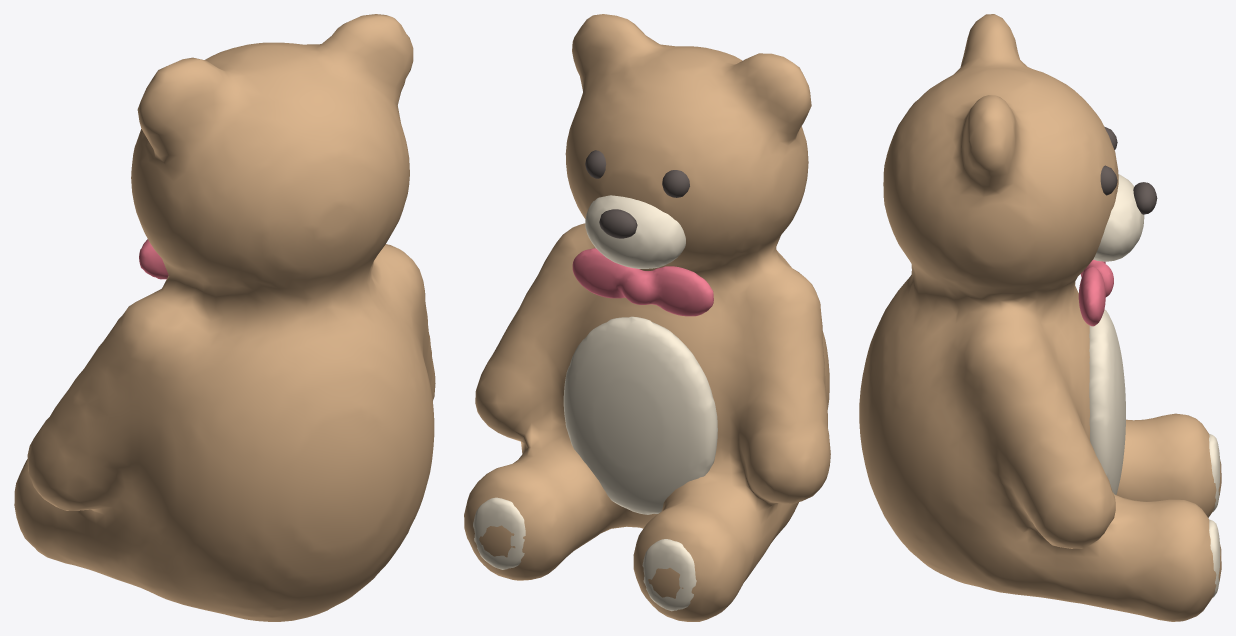
The model's file is TanksBear.glb.
The picture shows the model from 3 angles, left to right: view 1: azimuth 30°, elevation 25°; view 2: azimuth 150°, elevation 25°; view 3: azimuth 270°, elevation 25°; orthographic projection. The views are drawn at different scales.
Parts seen in each view (by area): view 1: Fur, Bow; view 2: Fur, Muzzle, Bow, Eyes; view 3: Fur, Muzzle, Bow, Eyes.
Part boxes in pixels (x1,y1,x2,y2): Fur: (14,14,435,621); Bow: (139,239,168,279); Fur: (464,14,830,621); Muzzle: (473,195,717,611); Bow: (572,248,713,316); Eyes: (585,150,689,238); Fur: (859,14,1221,621); Muzzle: (1089,174,1220,597); Bow: (1078,259,1113,326); Eyes: (1100,126,1157,214).
Bounding box in the file's own units: 24.22 × 33.63 × 21.46.
